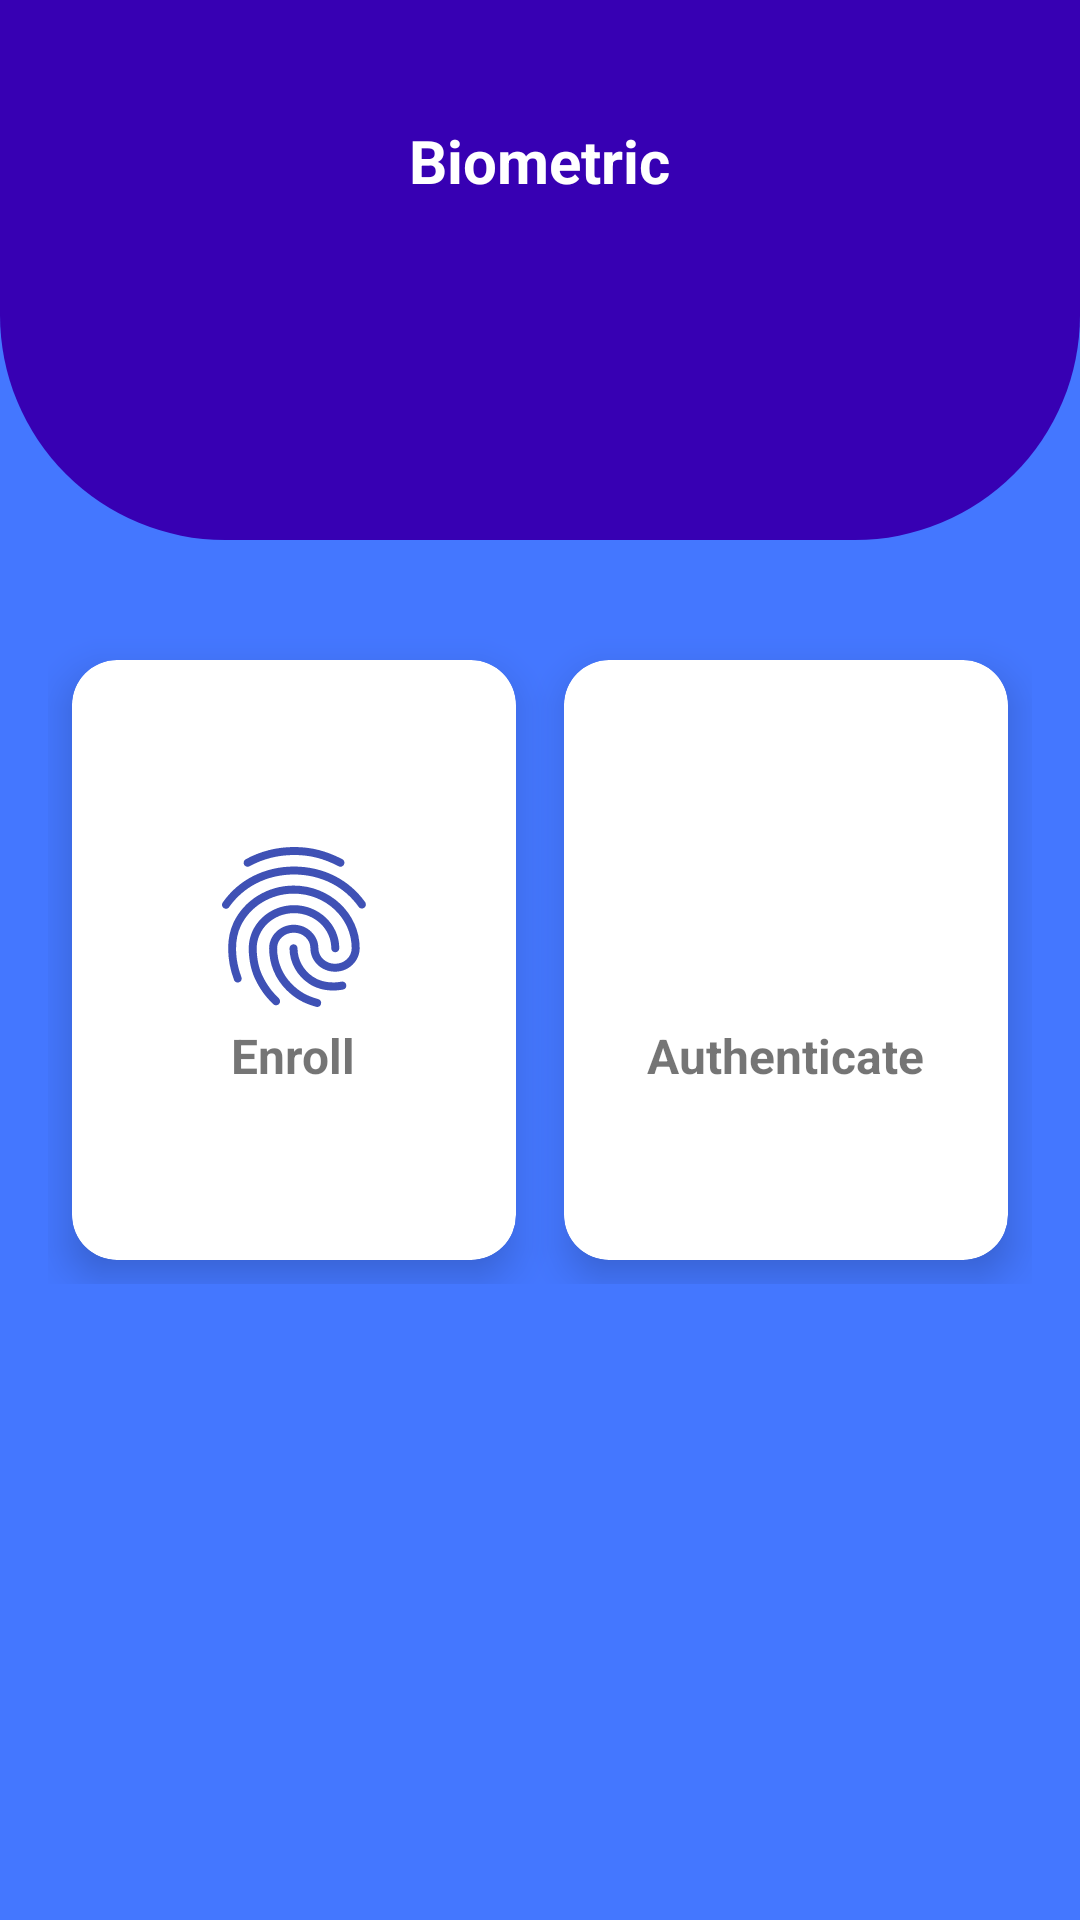

Locate icon controls on the screen. Image size 1080px x 1920px, boxes as (x1, y1, x2, y2).
finger: (222, 847, 366, 1007)
